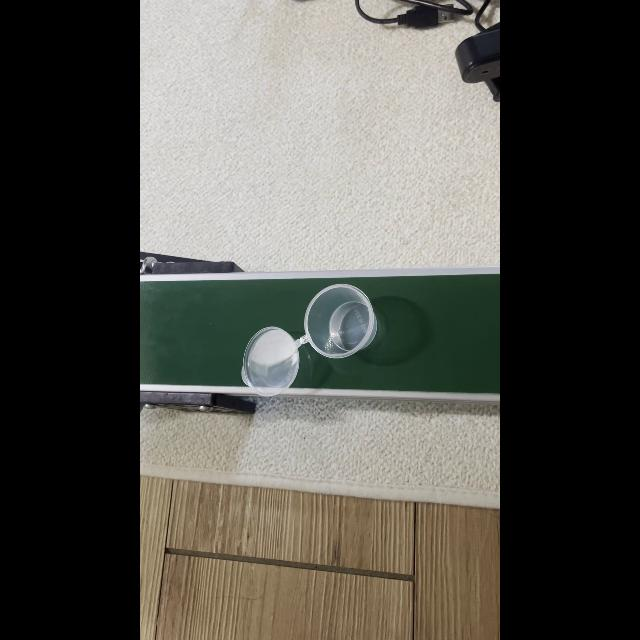clean: (308, 286, 368, 360), (240, 330, 298, 396)
